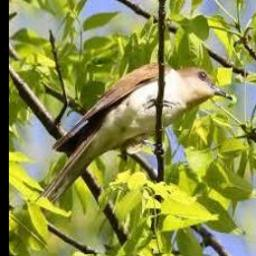Cuckoo: (34, 64, 233, 221)
